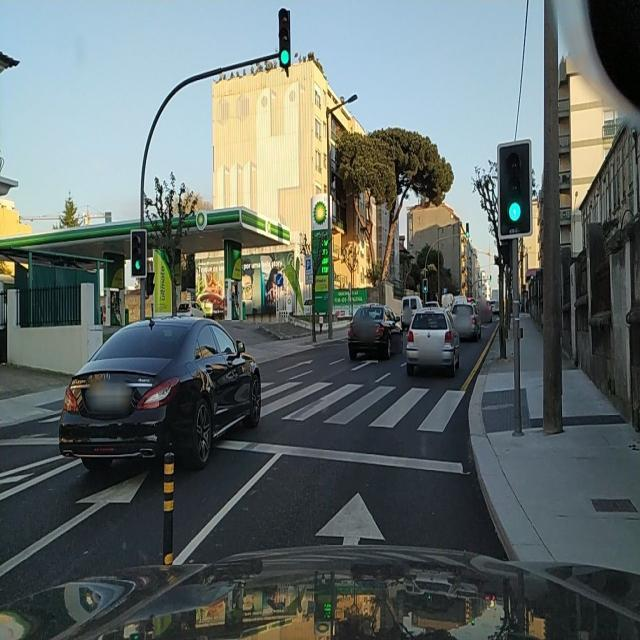car: (58, 314, 262, 472), (406, 308, 460, 378), (348, 303, 402, 361), (451, 300, 482, 342), (401, 294, 423, 330), (178, 301, 205, 317), (478, 298, 493, 324), (452, 294, 466, 310), (490, 299, 500, 316)
